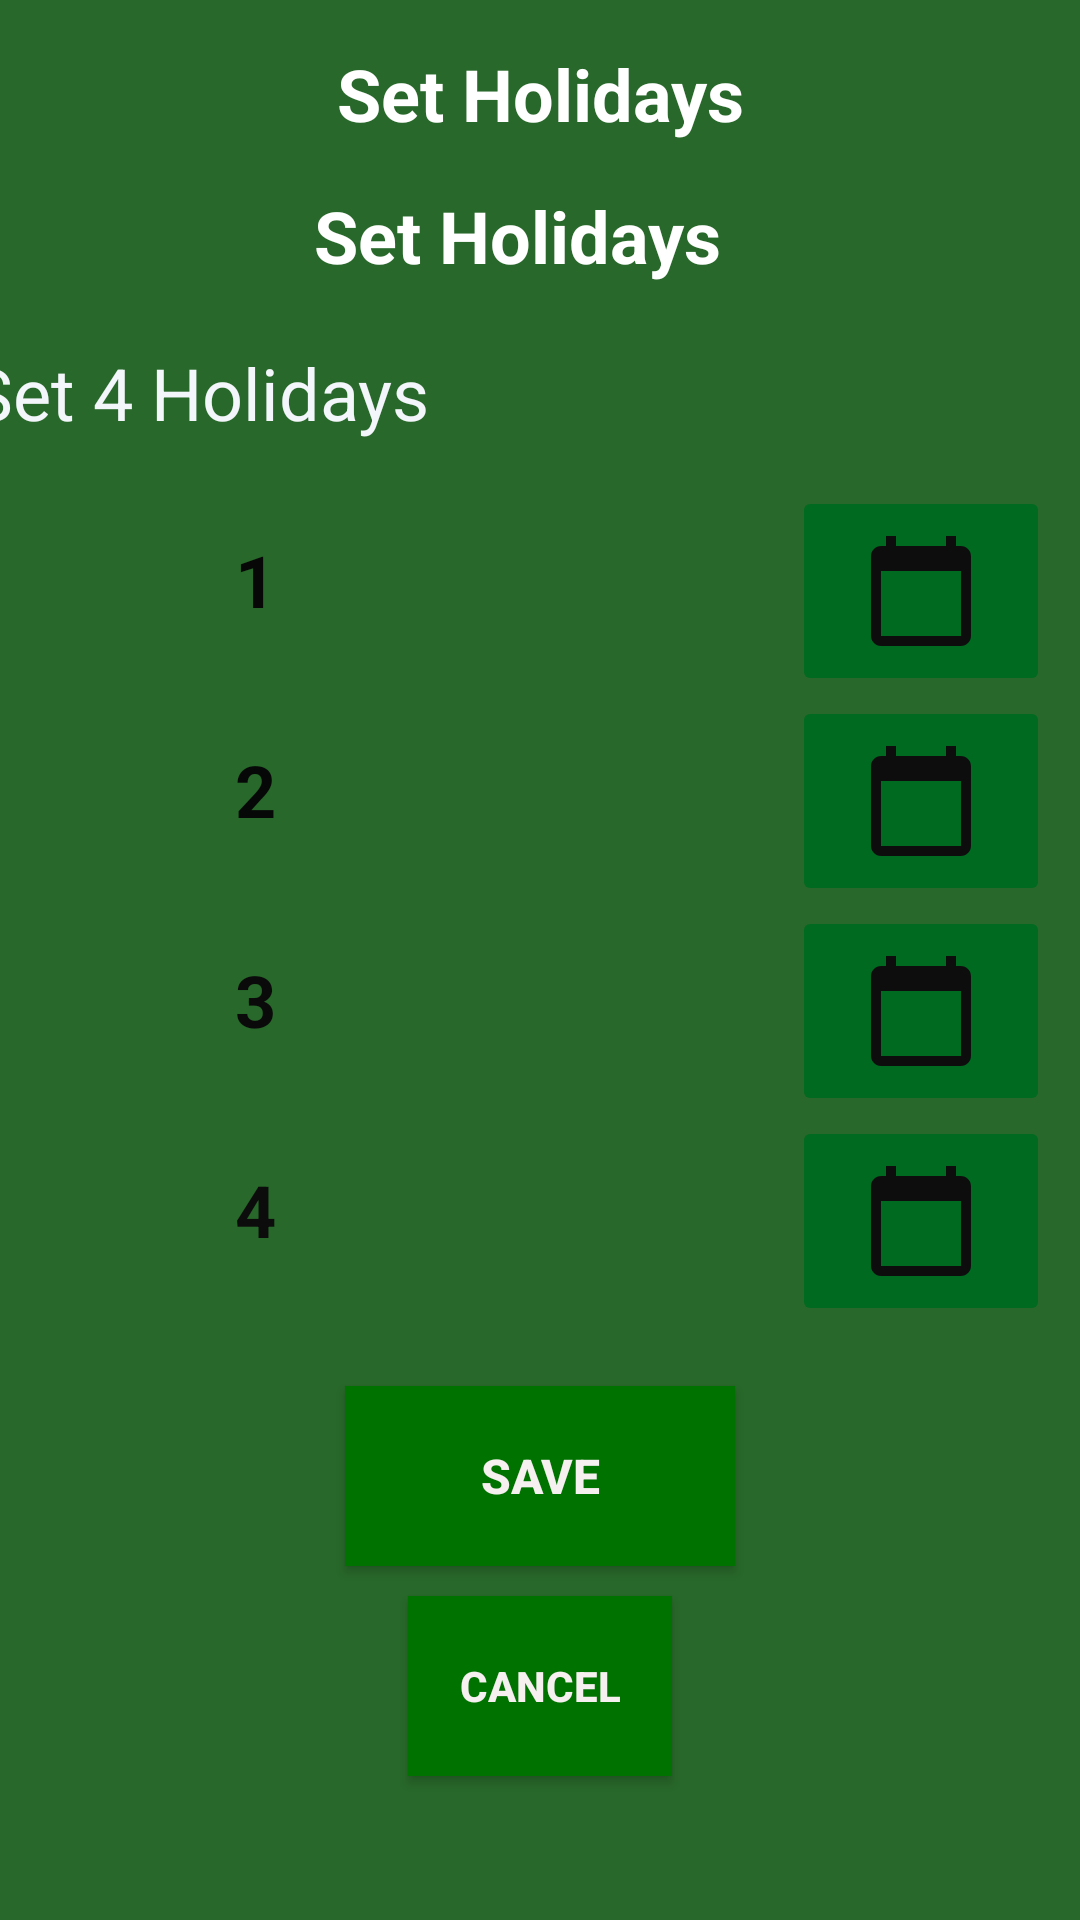

Icon bounding boxes for this 1080x1920 phone screenshot, format (x1, y1, x2, y2):
calendarblack: (804, 504, 1038, 678), (804, 714, 1038, 888), (804, 924, 1038, 1098), (804, 1134, 1038, 1308)
